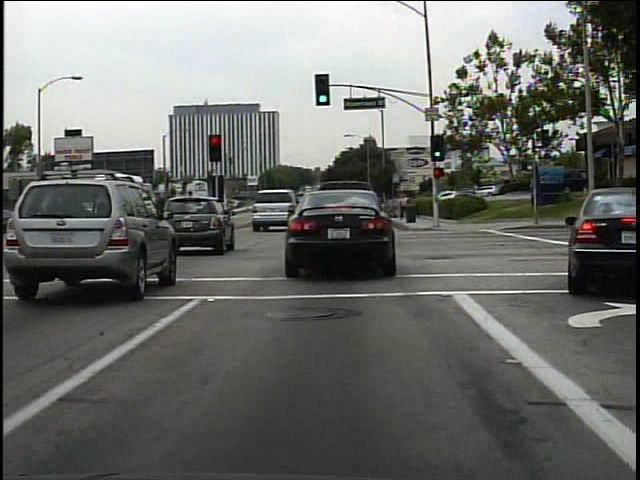person: (397, 192, 409, 223)
